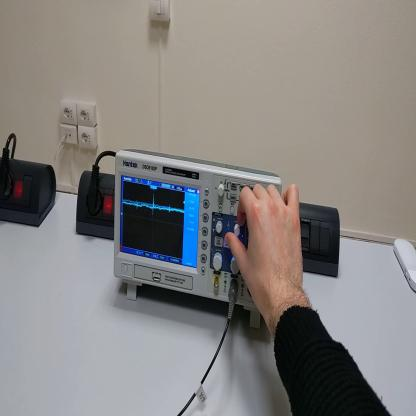hand: (228, 176, 306, 320)
oscilloscope: (114, 149, 283, 331)
socket: (2, 156, 58, 229), (76, 168, 115, 241)
